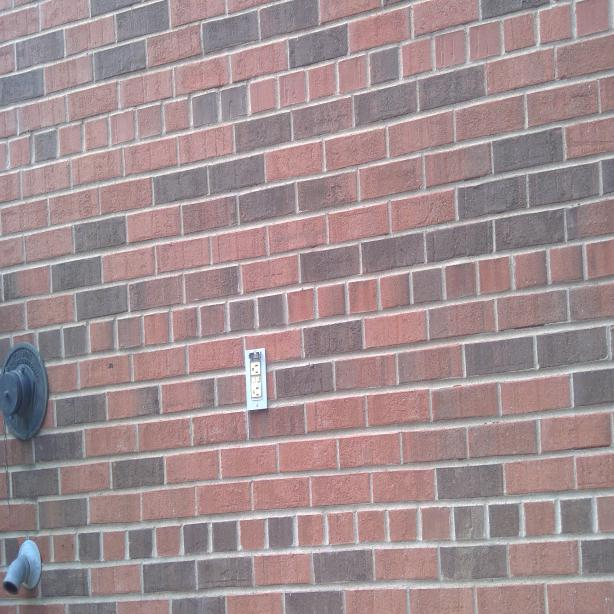typeb: (250, 383, 263, 399), (250, 361, 261, 377)
